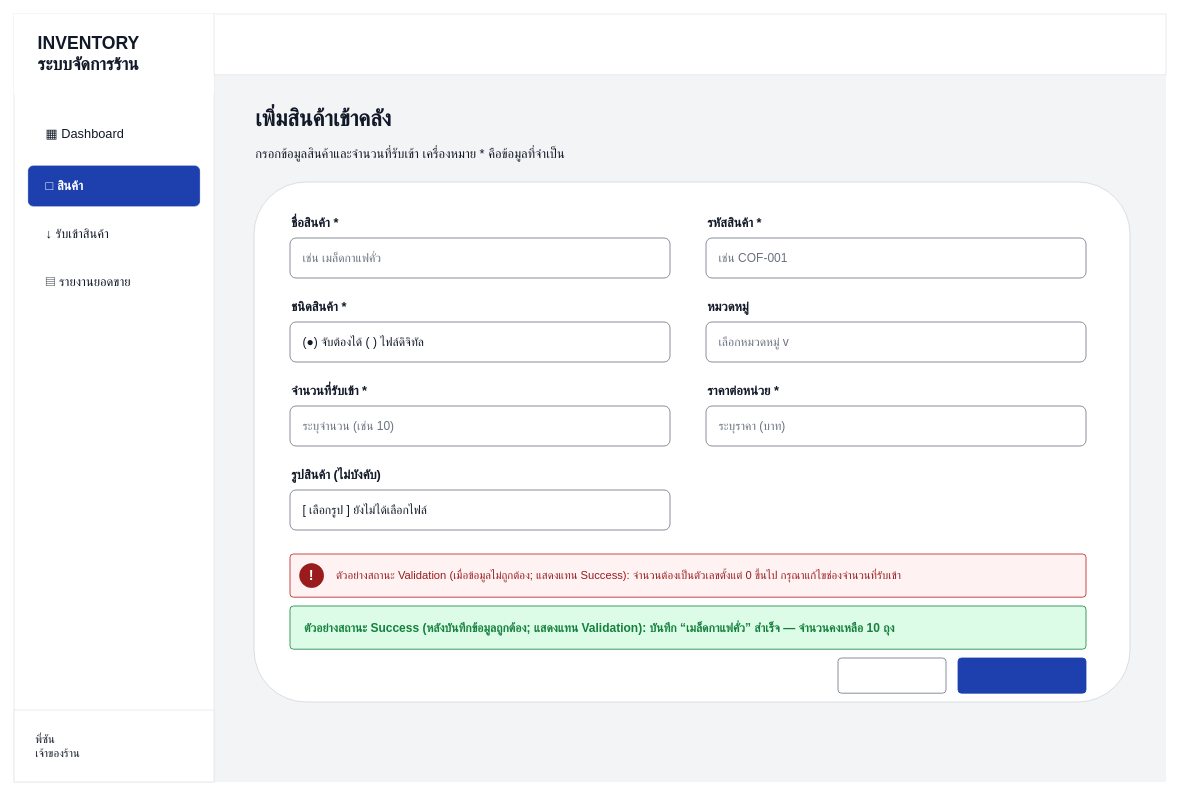
This 1180x796 diagram has some shape labels left out. Each missing label, with the box of its shape:
บันทึกสินค้า: (957, 657, 1086, 693)
ยกเลิก: (837, 657, 946, 693)
สินค้า / เพิ่มสินค้า [ บัญชีผู้ใช้ v ]: (213, 13, 1166, 75)
